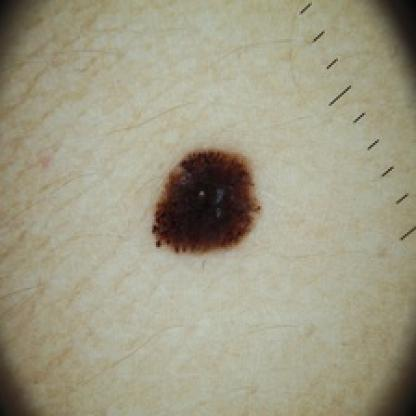malignant: (147, 134, 262, 258)
